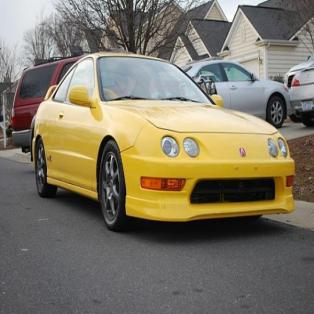Auto: (32, 51, 296, 233)
